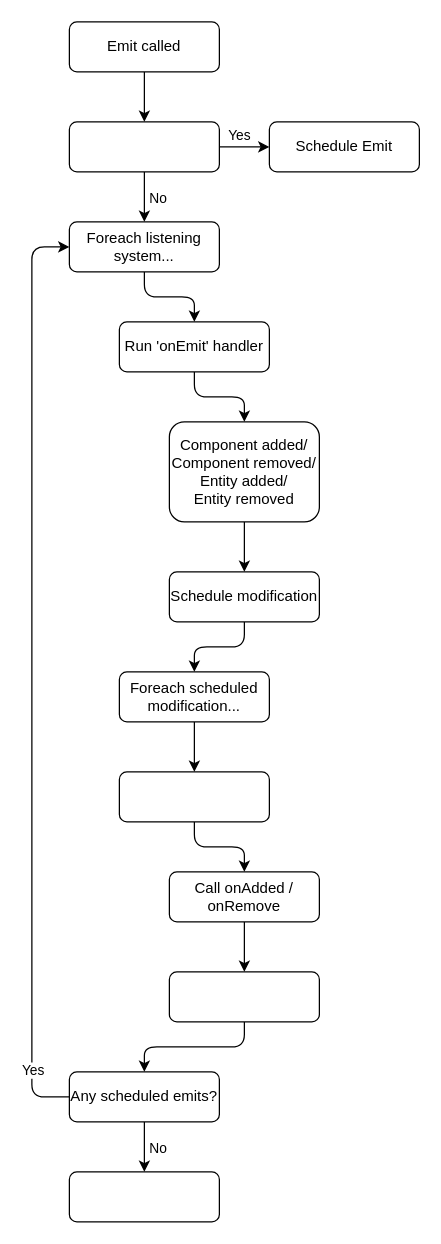
This 441x1244 diagram has some shape labels left out. The shapes that lost their labels are listed below. From the top down, each one's box as (x1, y1, x2, y2) in pixels, then its label:
(68, 121, 219, 172): Already emitting?
(118, 771, 269, 822): Apply modification
(168, 971, 319, 1022): Transfer entity to new archetype
(68, 1171, 219, 1222): Done
